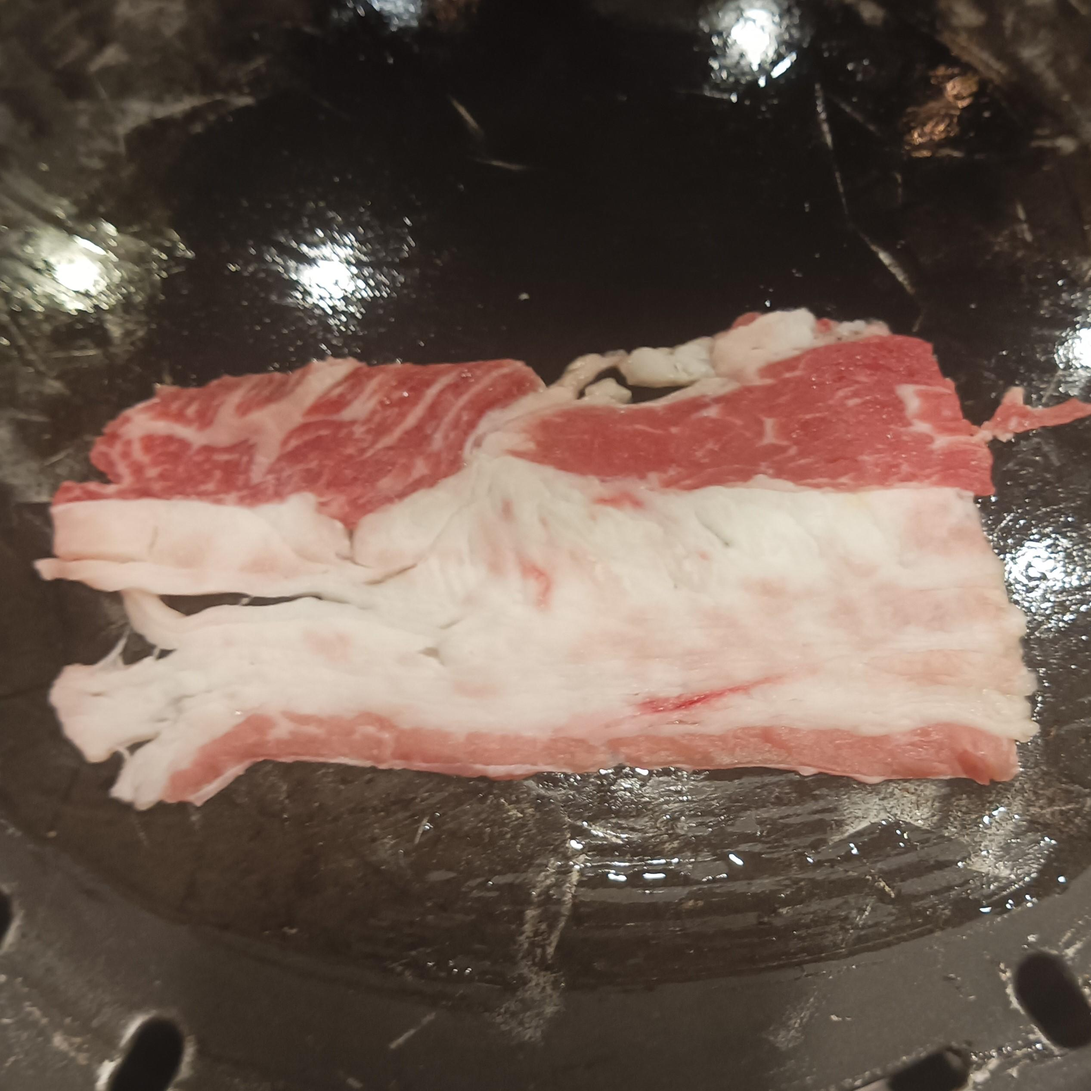Undercooked: (41, 310, 1038, 814)
